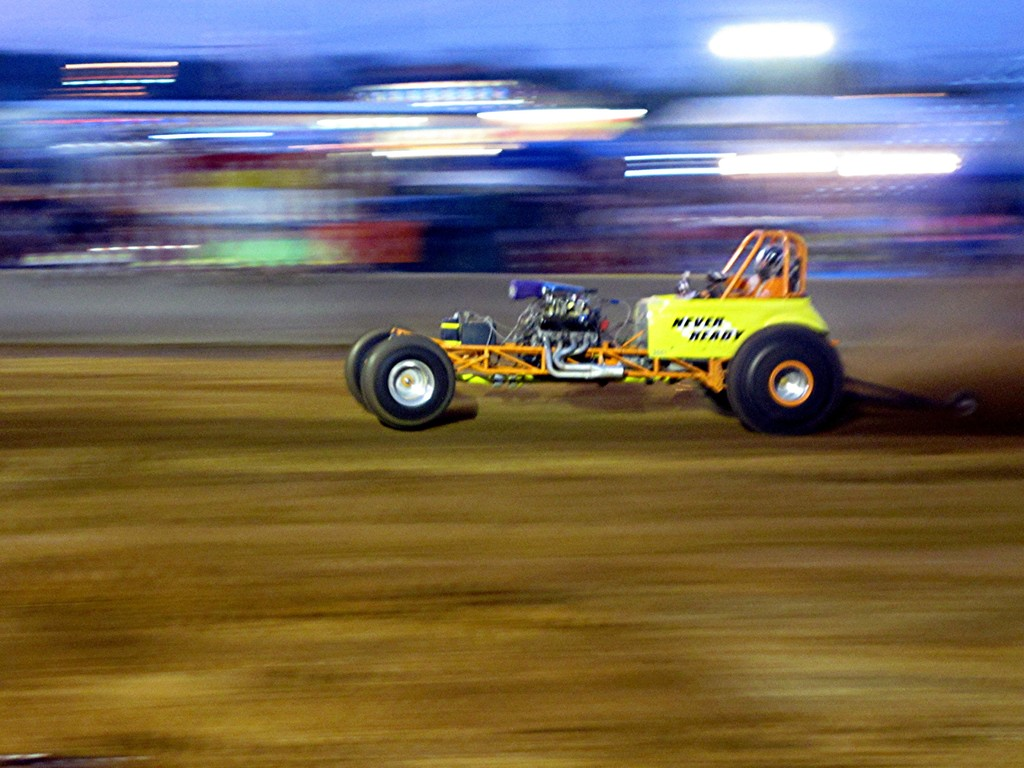Car: (348, 229, 983, 438)
